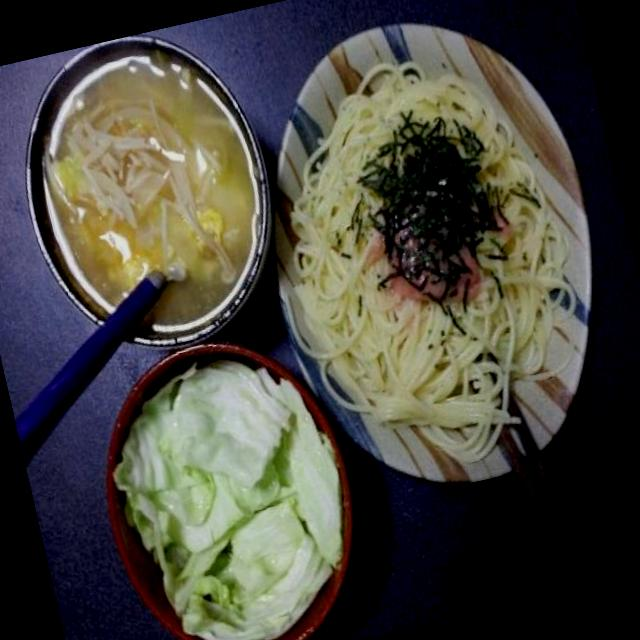Pasta: (280, 48, 595, 450)
